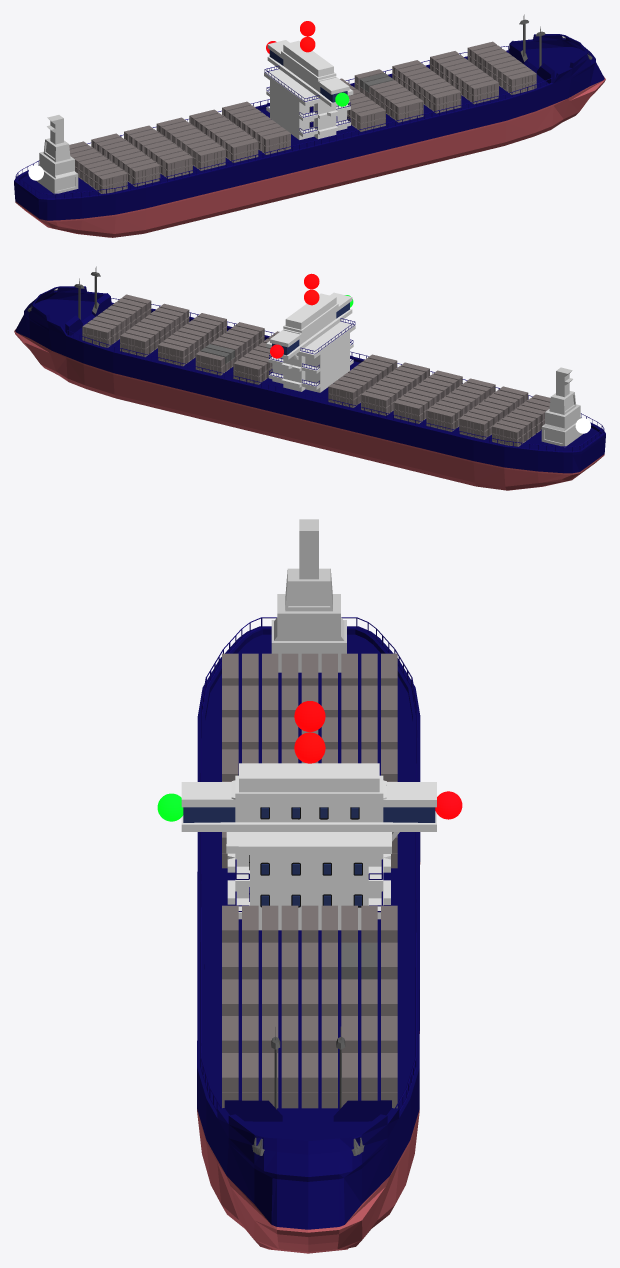
Rendered from NUC.glb.
3 views of the same model, one above another, from view 1: azimuth 30°, elevation 25°; view 2: azimuth 150°, elevation 25°; view 3: azimuth 270°, elevation 25° (orthographic). The views are drawn at different scales.
Parts seen in each view (by area): view 1: ContainerShip, Cube.003, ContainerShip.004, ContainerShip.007; view 2: ContainerShip, Cube.003, ContainerShip.004, ContainerShip.007; view 3: ContainerShip, Cube.003, ContainerShip.004, ContainerShip.007.
Boxes of the visible parts, x1=… form: ContainerShip: x1=14, y1=14, x2=605, y2=237; Cube.003: x1=69, y1=41, x2=536, y2=193; ContainerShip.004: x1=264, y1=40, x2=353, y2=139; ContainerShip.007: x1=36, y1=115, x2=78, y2=193; ContainerShip: x1=14, y1=266, x2=605, y2=490; Cube.003: x1=82, y1=294, x2=550, y2=446; ContainerShip.004: x1=266, y1=292, x2=355, y2=392; ContainerShip.007: x1=541, y1=367, x2=583, y2=447; ContainerShip: x1=197, y1=617, x2=420, y2=1253; Cube.003: x1=222, y1=653, x2=397, y2=1108; ContainerShip.004: x1=181, y1=763, x2=436, y2=930; ContainerShip.007: x1=271, y1=519, x2=346, y2=672.
Size of the model in its own units: 199 by 49.5 by 45.78.
